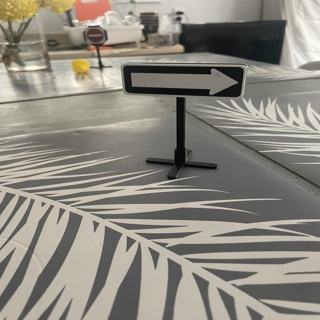sign_oneway_right: (123, 61, 246, 100)
